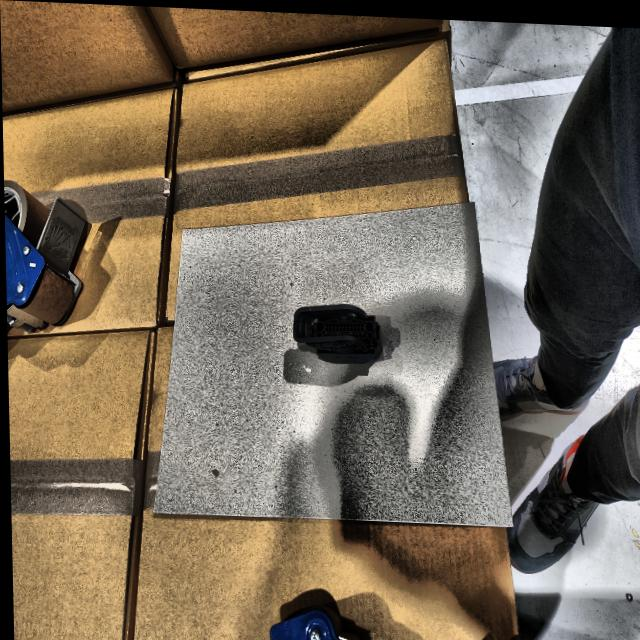P38: (292, 301, 381, 360)
